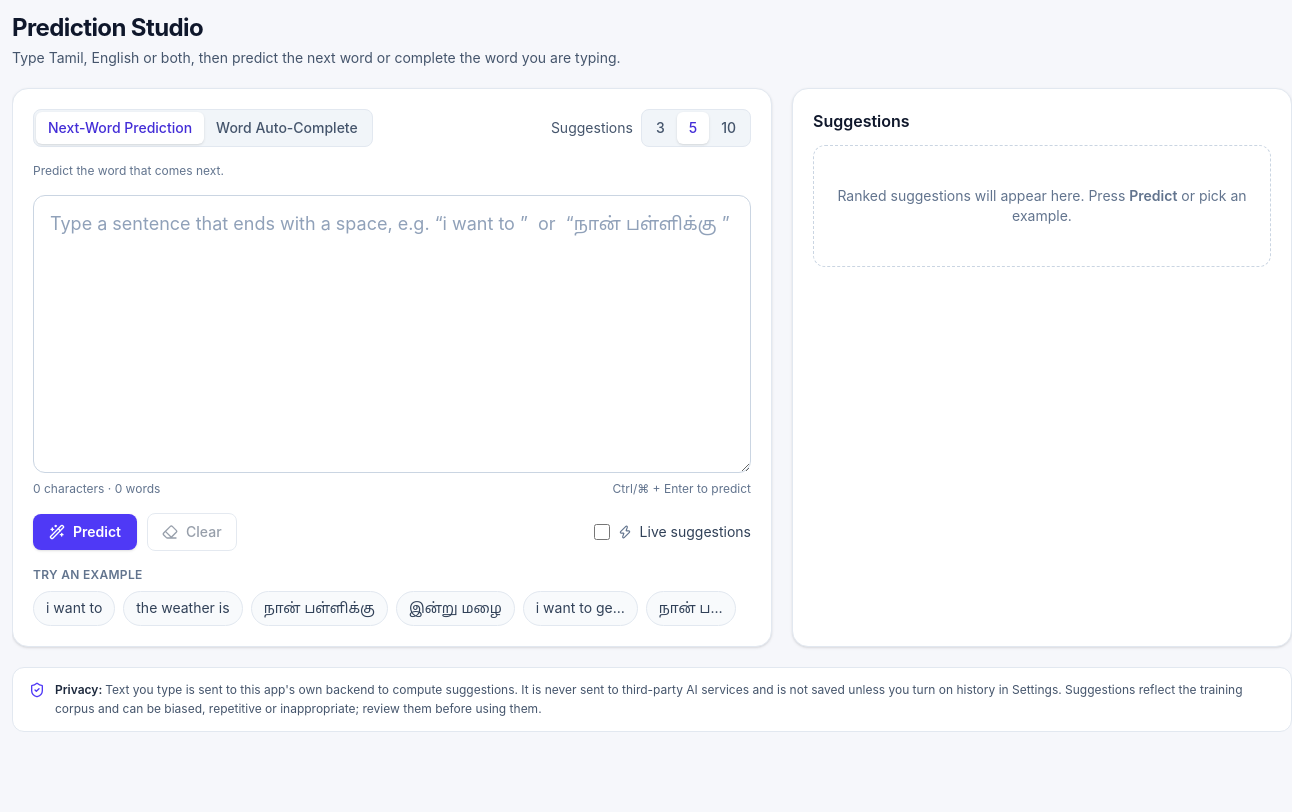
Prediction Studio › sends the text, mode and top-k and renders ranked suggestions with probabilities
Click the text box named "Text to continue" at (392, 334), box [33,195,751,473]
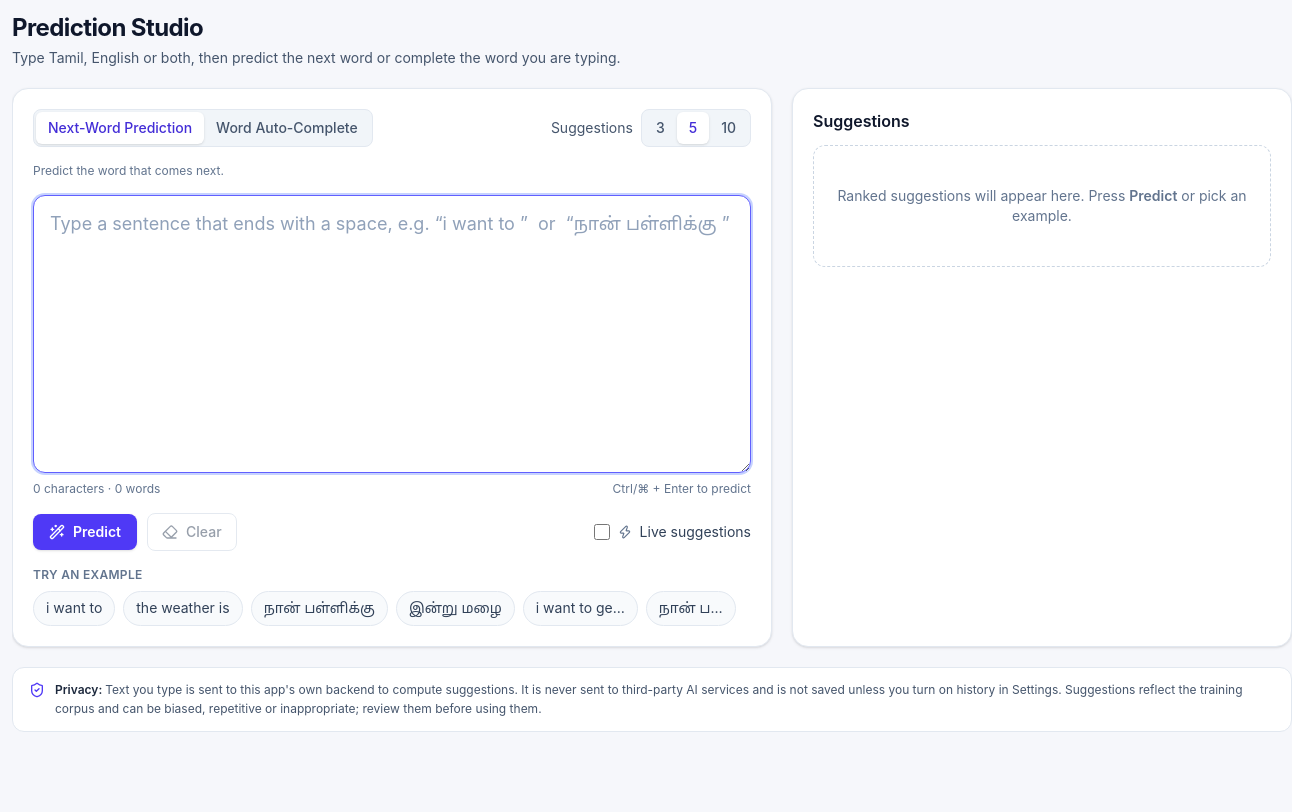
Type keys "i want to "
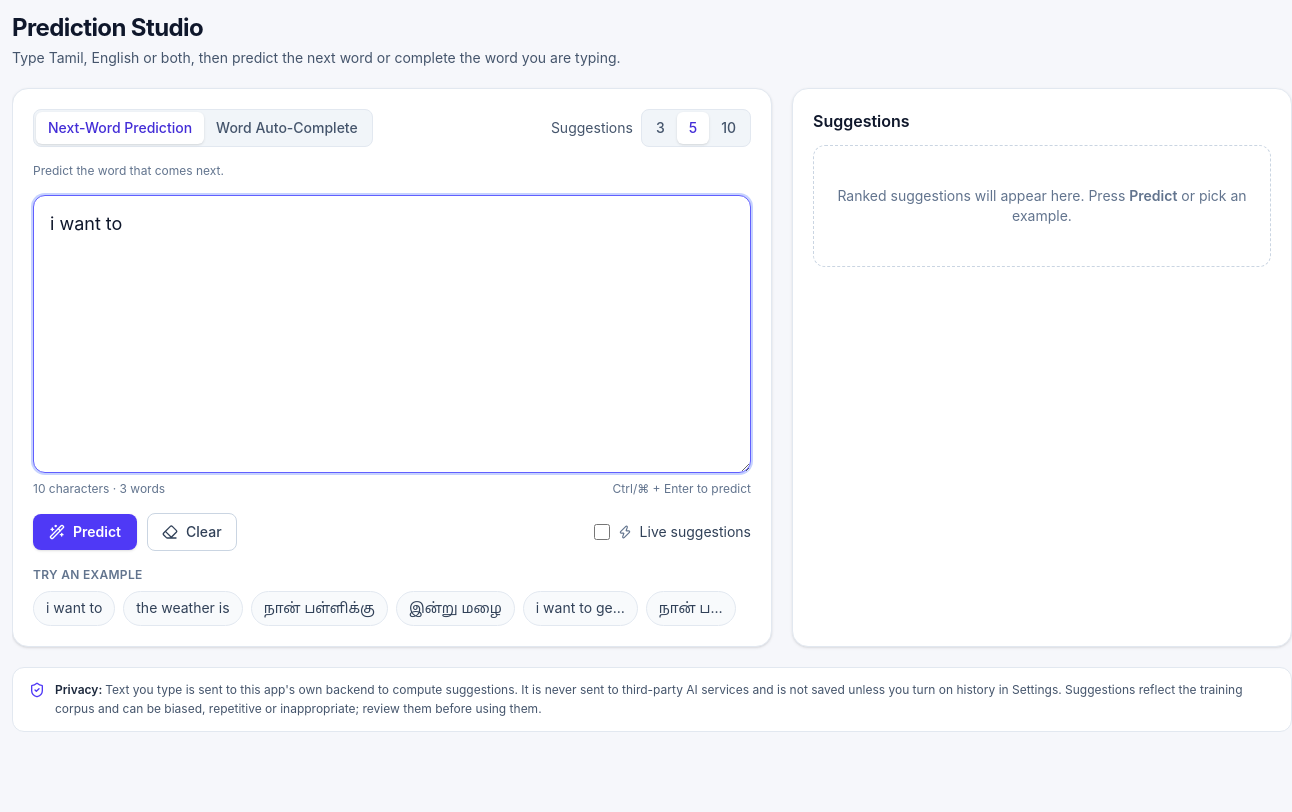
Click the button "Predict" at (85, 532), box [33,514,137,550]
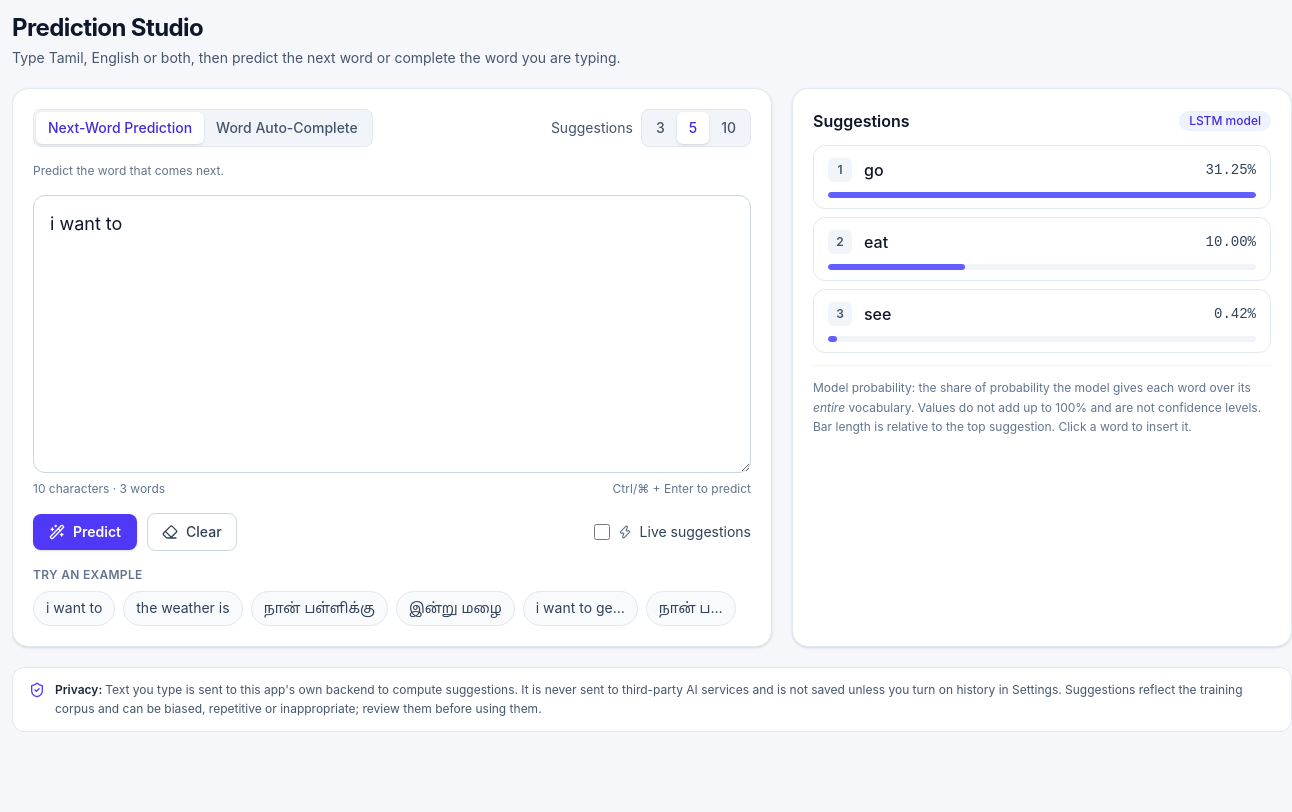
Expected: the number of list items is 3, [813,145,1271,209]; [813,217,1271,281]; [813,289,1271,353]
Expected: the list item "1 go 31.25%" is shown, [813,145,1271,209]
Expected: the list item "3 see 0.42%" is shown, [813,289,1271,353]
